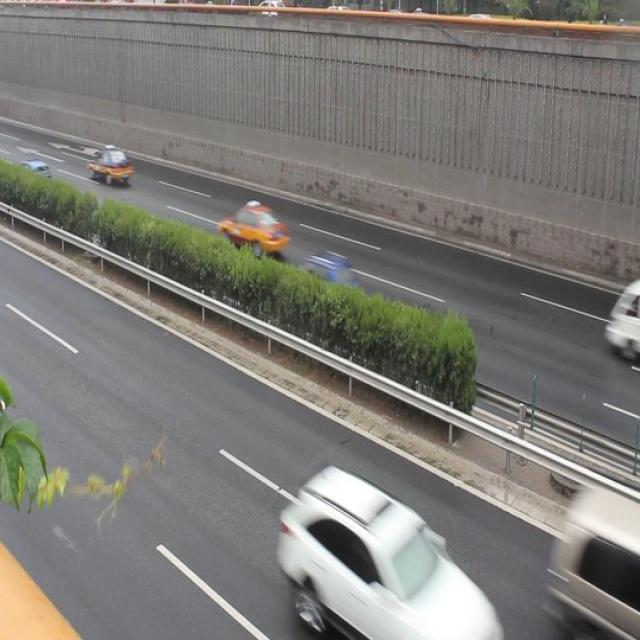car: (282, 467, 488, 640), (276, 248, 361, 313), (216, 202, 289, 255), (86, 145, 133, 186)
truck: (555, 484, 639, 640)
